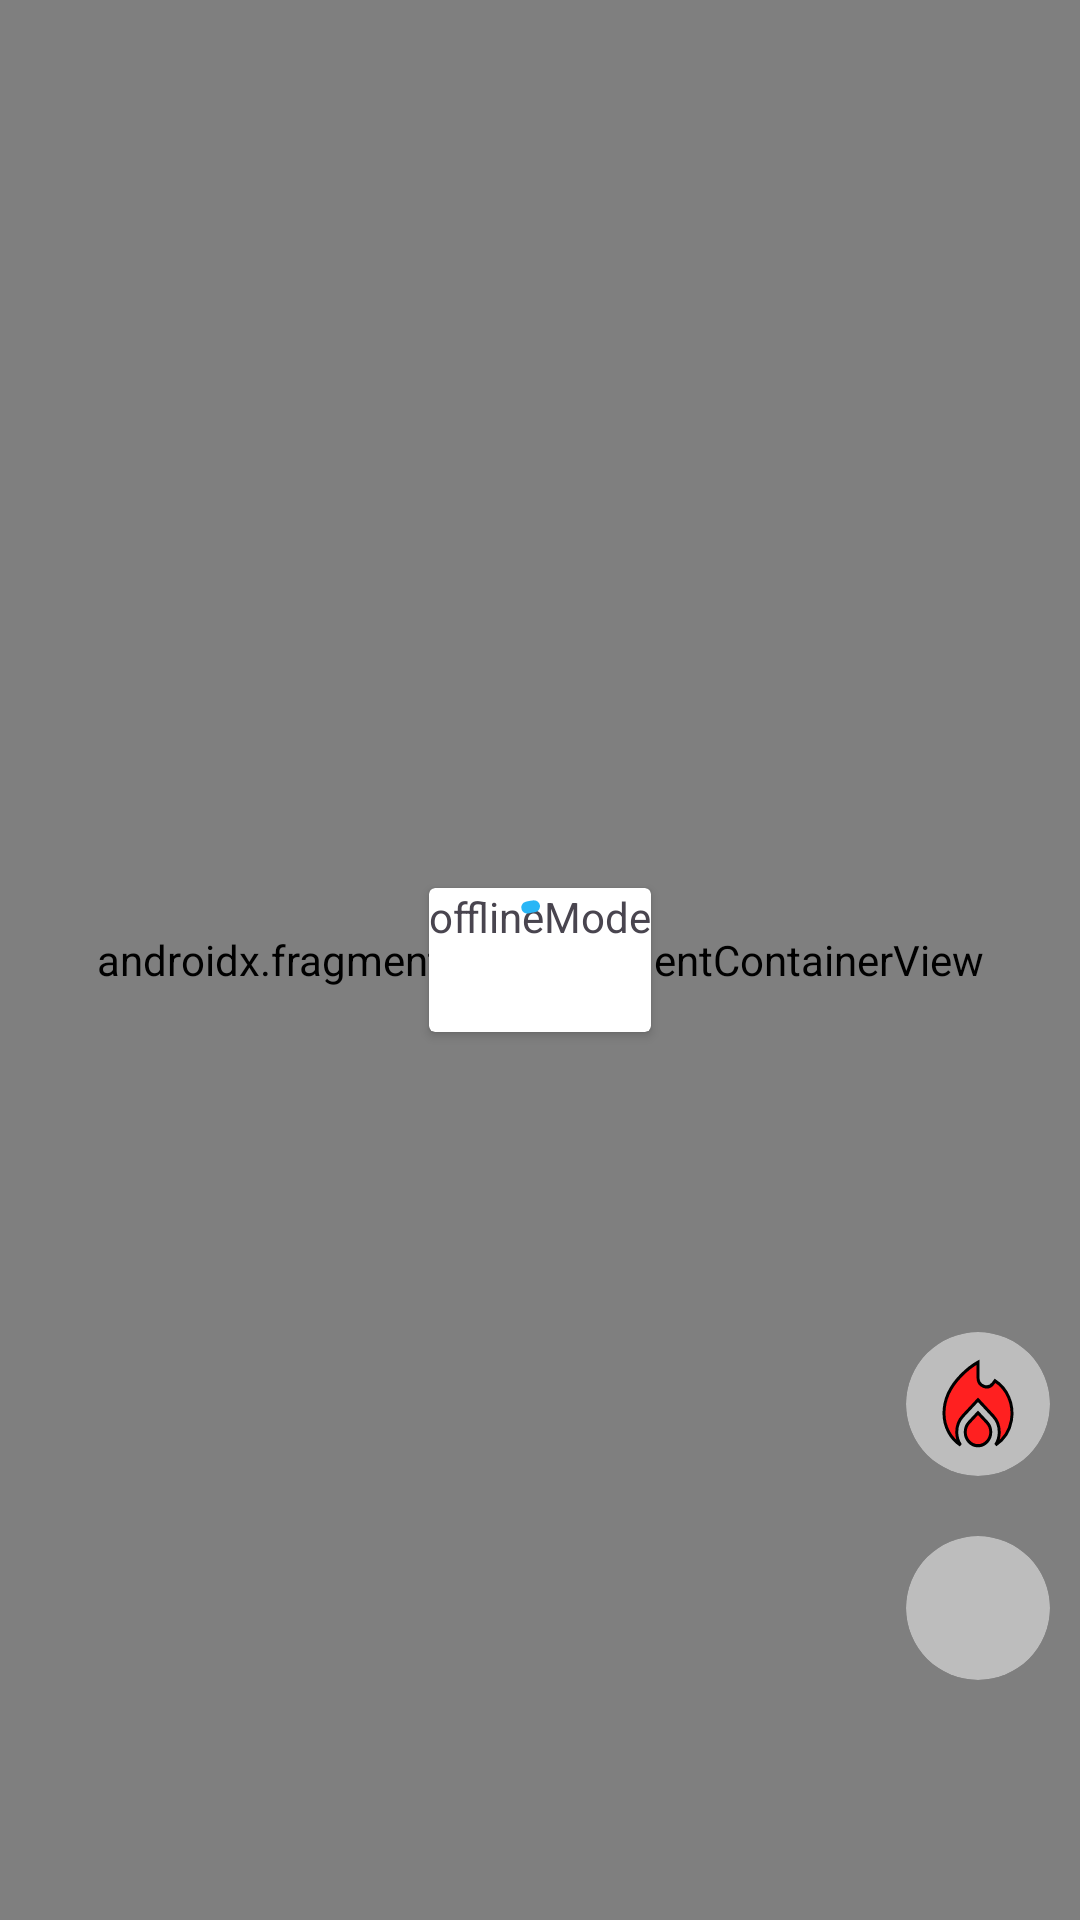

Screen size 1080 x 1920. Icon name, then its box in pixels as region(x1, y1, x2, y2):
fire: region(906, 1332, 1050, 1476)
